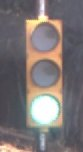Green: (18, 10, 74, 133)
